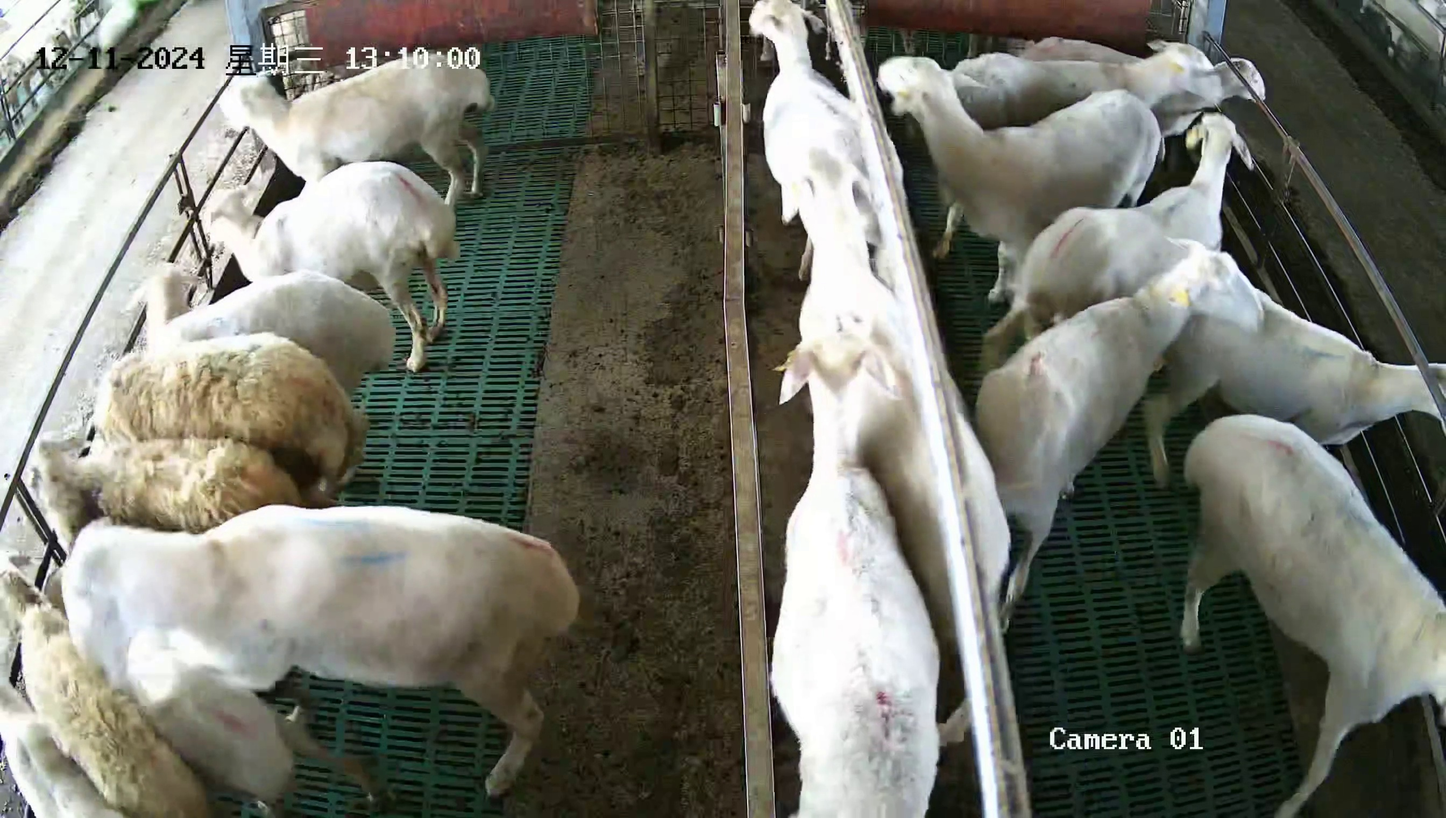Nmounting: (62, 499, 579, 796)
